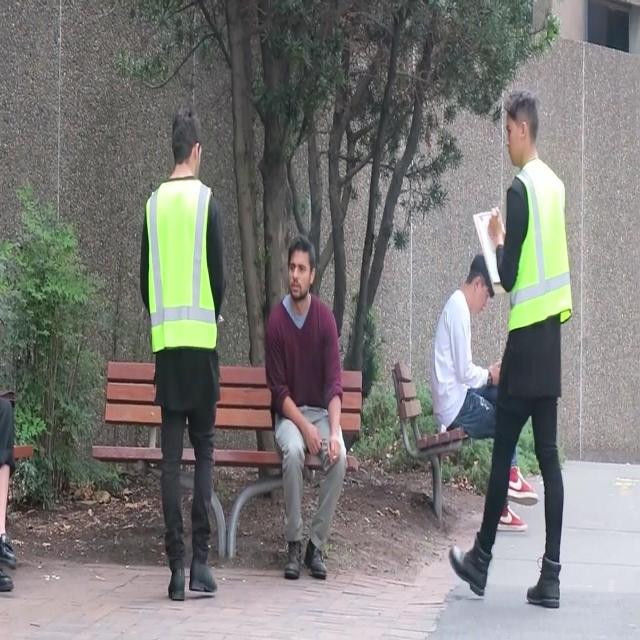Reflective-Jacket: (136, 172, 228, 378), (500, 159, 576, 339)
